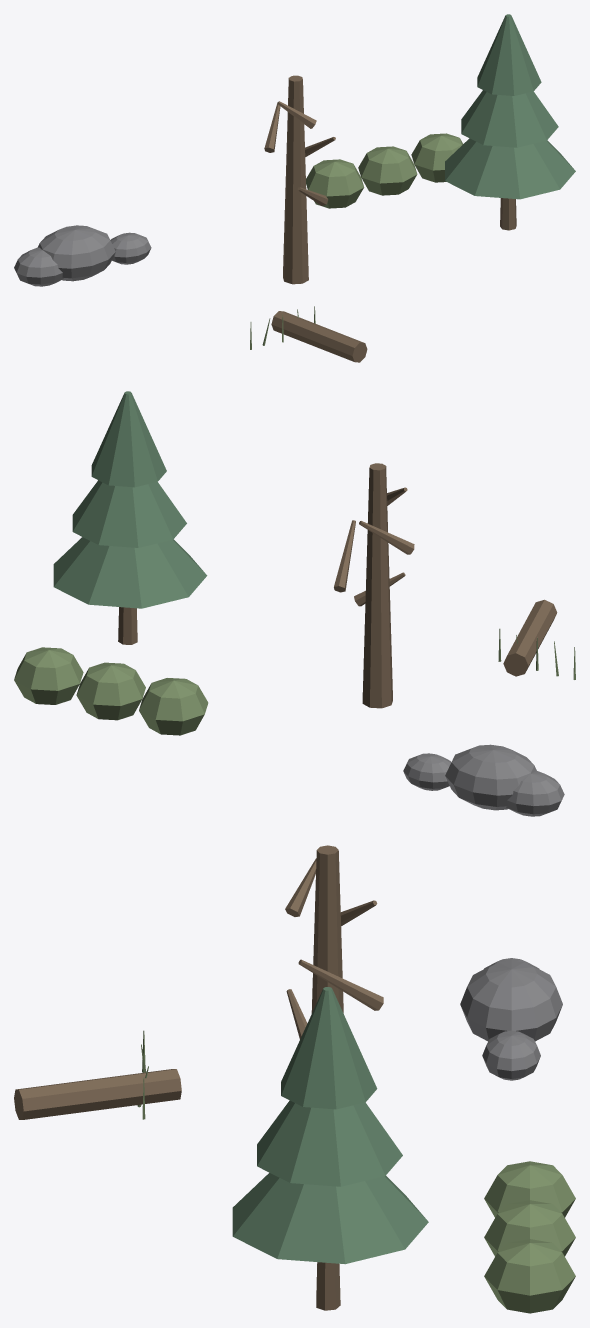
Rendered from nature_kit.glb.
3 renders of one model, top to bottom at view 1: azimuth 30°, elevation 25°; view 2: azimuth 150°, elevation 25°; view 3: azimuth 270°, elevation 25°, orthographic. The views are drawn at different scales.
Visible parts, largest first — view 1: nature_kit; view 2: nature_kit; view 3: nature_kit.
Part boxes in pixels (x1,y1,x2,y2): nature_kit: [14, 14, 575, 362]; nature_kit: [14, 391, 575, 816]; nature_kit: [14, 845, 575, 1313].
Bounding box in the file's own units: 9.18 × 3.87 × 6.11.
